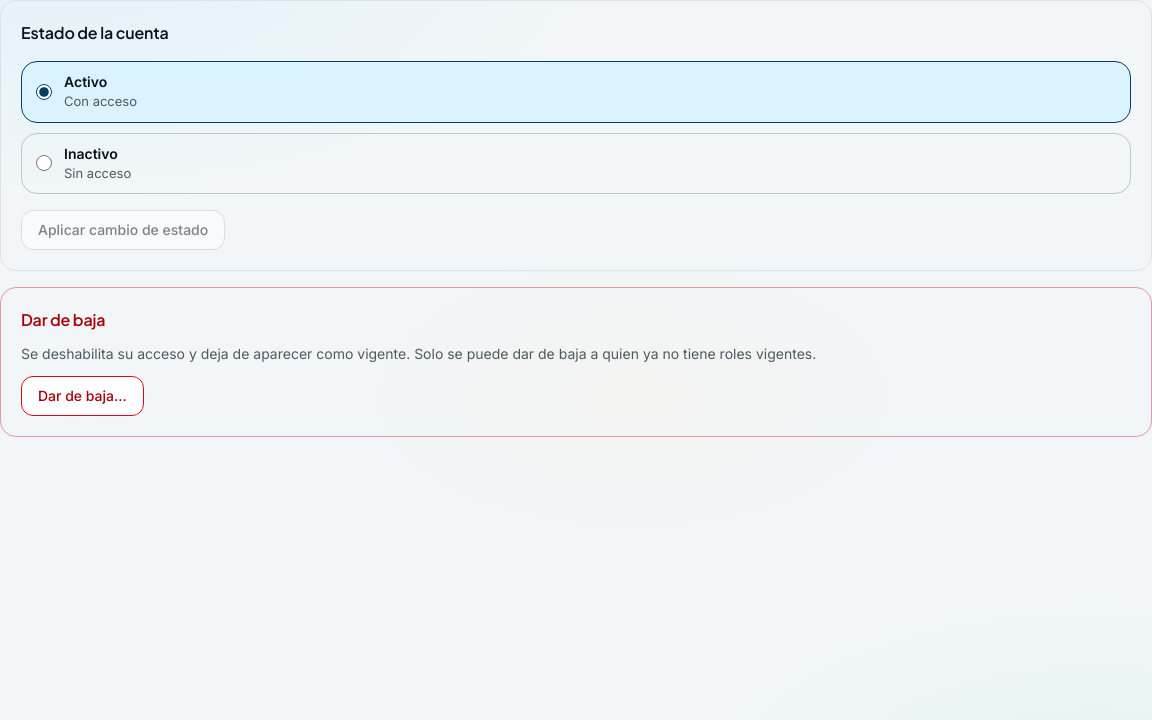
it: EditarUsuarioAcceso › elegir otro estado habilita "Aplicar cambio de estado", abre la confirmación con la frase del cambio y confirmar cambia el estado, avisa y cierra el panel
Expected: the radio button labelled "Activo" is checked, x1=36 y1=84 x2=52 y2=100
Expected: the button "Aplicar cambio de estado" is disabled, x1=21 y1=210 x2=225 y2=250
Click the radio button labelled "Inactivo" at (44, 163), box x1=36 y1=155 x2=52 y2=171
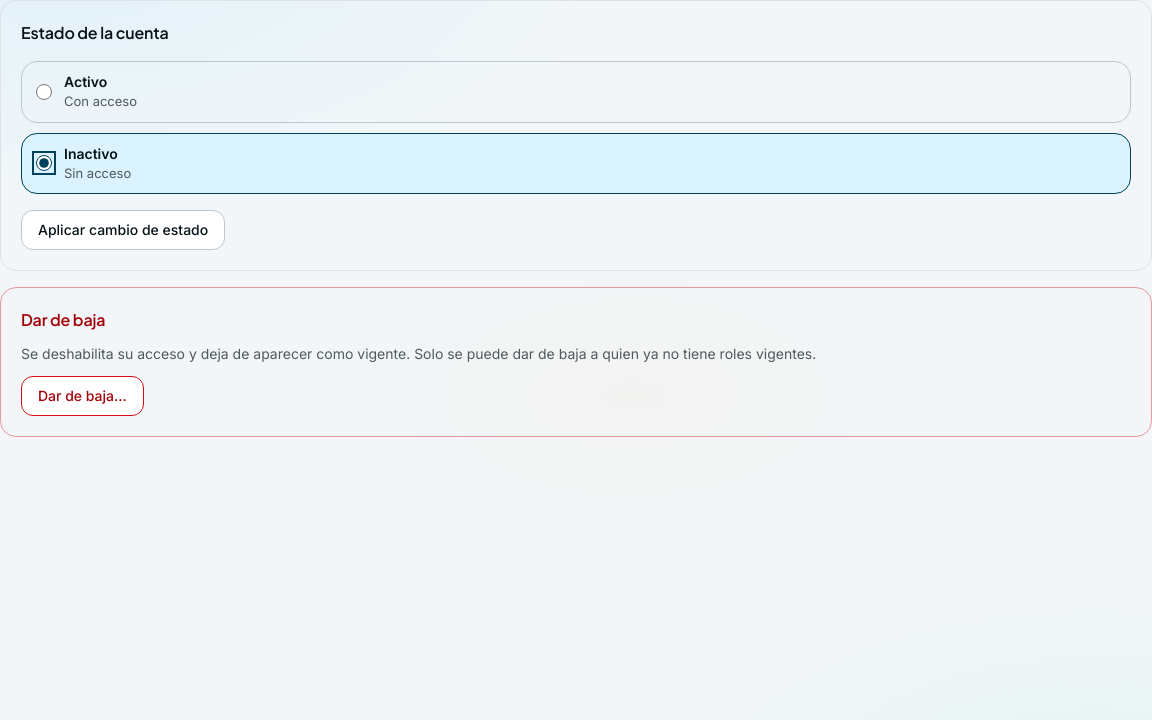
Expected: the button "Aplicar cambio de estado" is enabled
Click the button "Aplicar cambio de estado" at (123, 230), box x1=21 y1=210 x2=225 y2=250
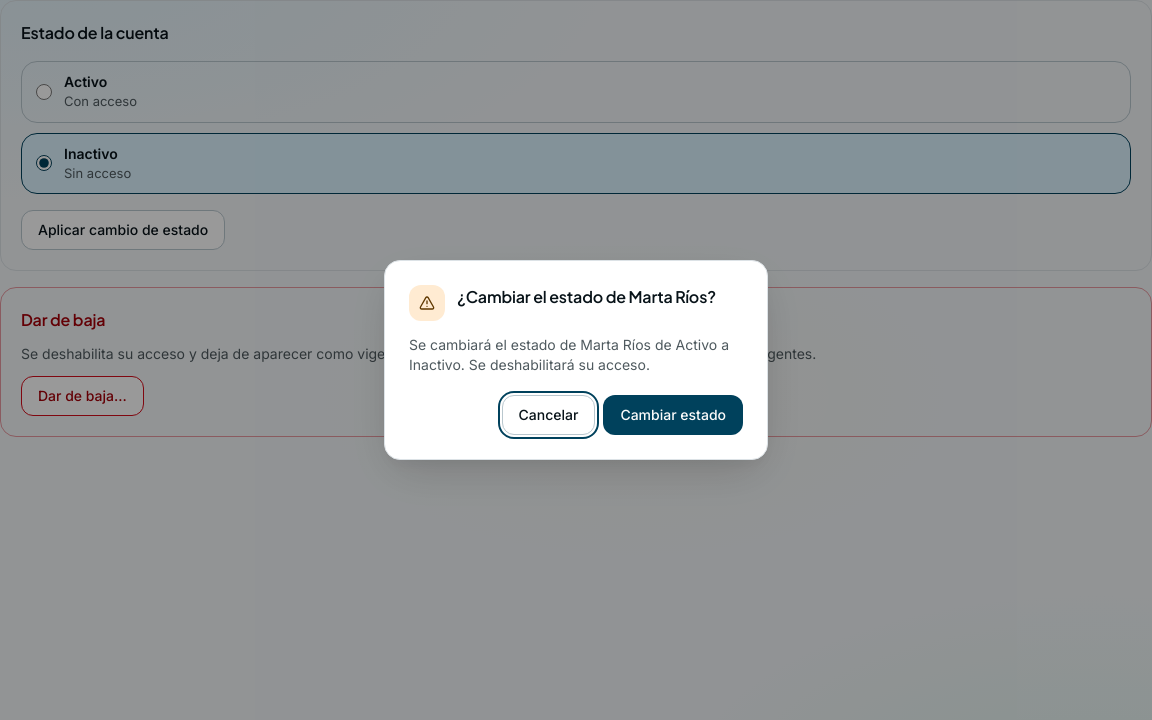
Click the button "Cancelar" at (548, 415), box x1=502 y1=395 x2=595 y2=435
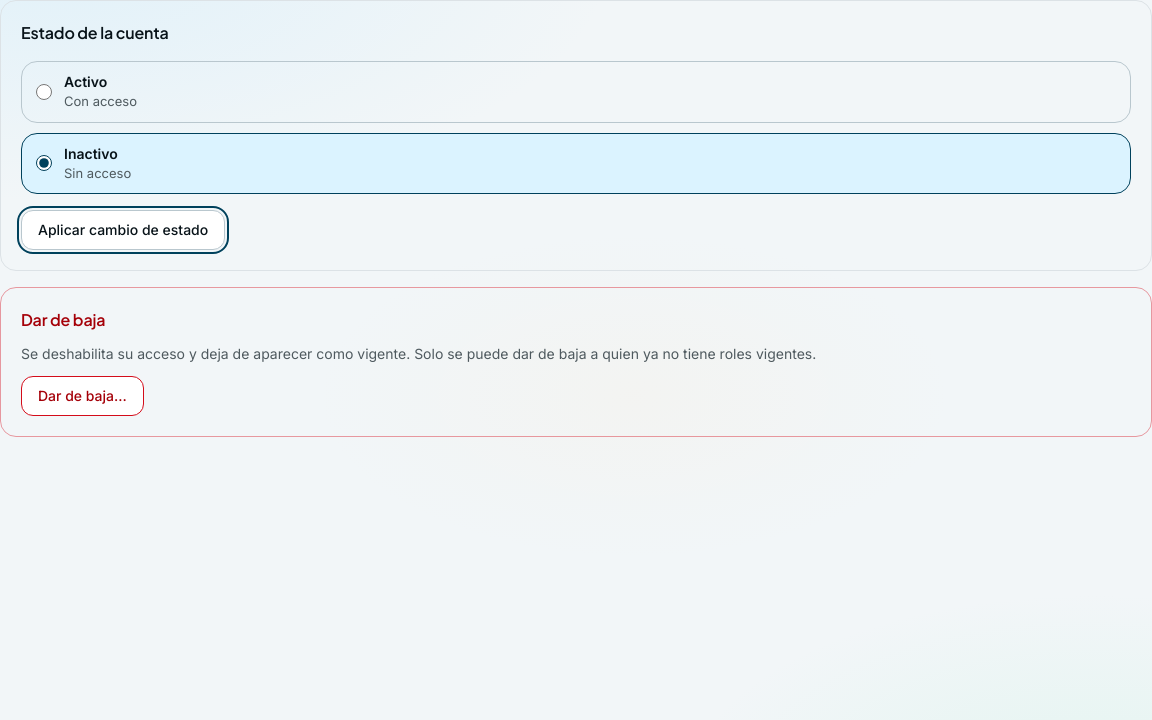
Expected: the dialog is gone
Click the button "Aplicar cambio de estado" at (123, 230), box x1=21 y1=210 x2=225 y2=250
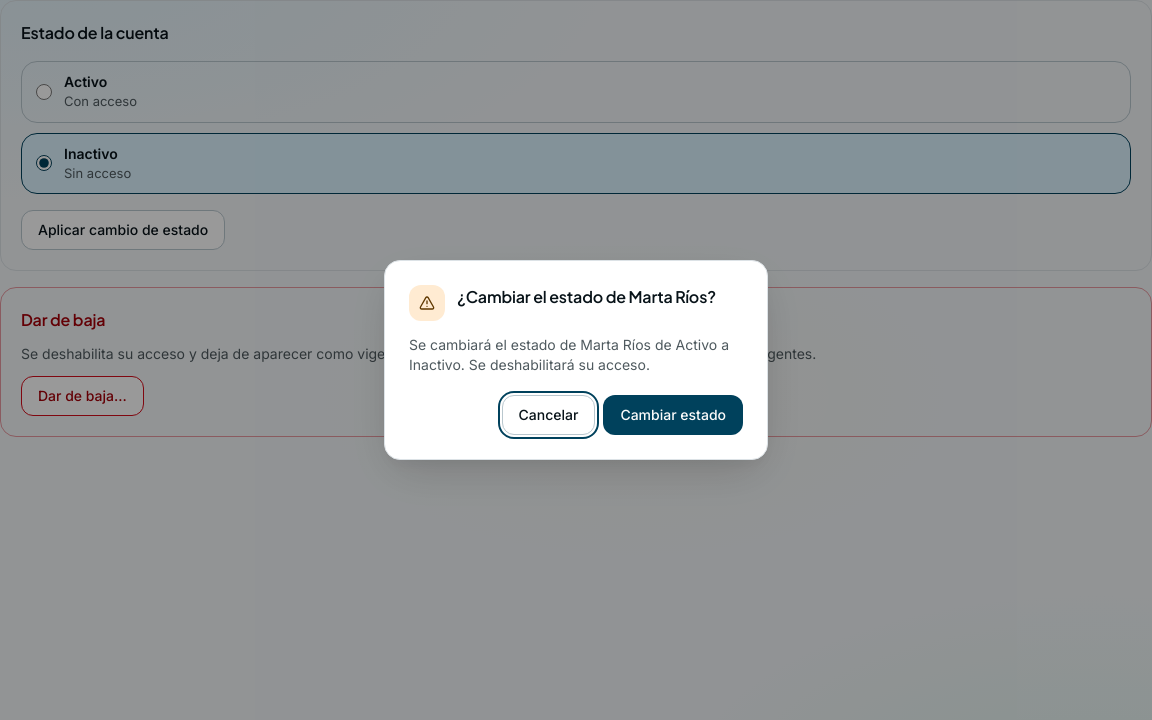
Click the button "Cambiar estado" at (673, 415), box x1=603 y1=395 x2=743 y2=435
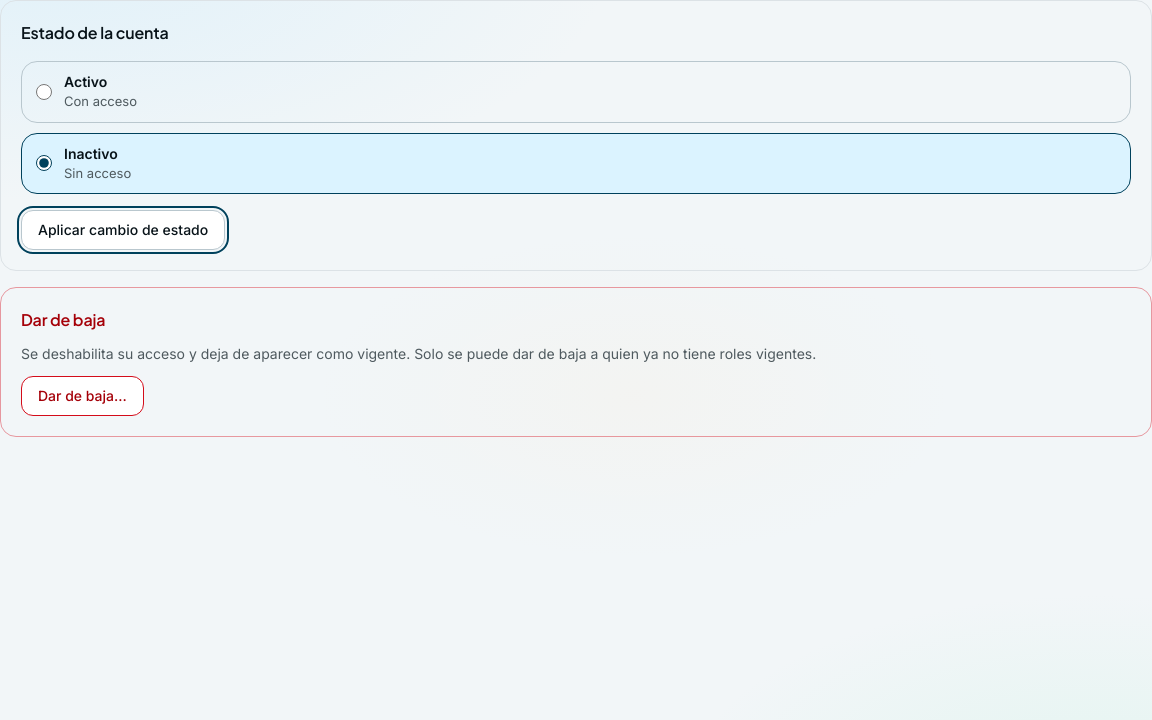
Expected: the dialog is gone
